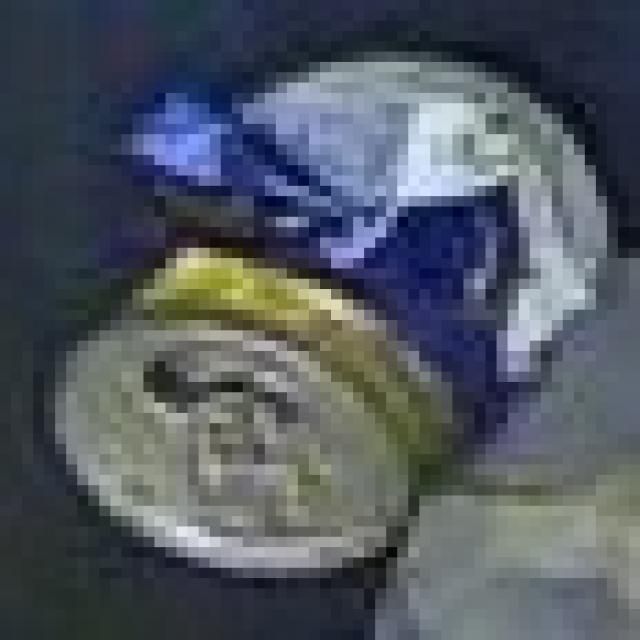litter: (10, 29, 640, 592)
